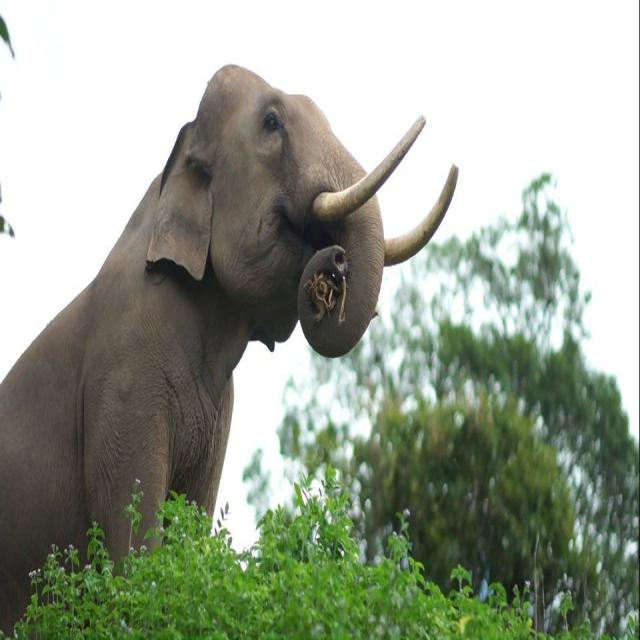Elephant: (2, 31, 476, 614)
